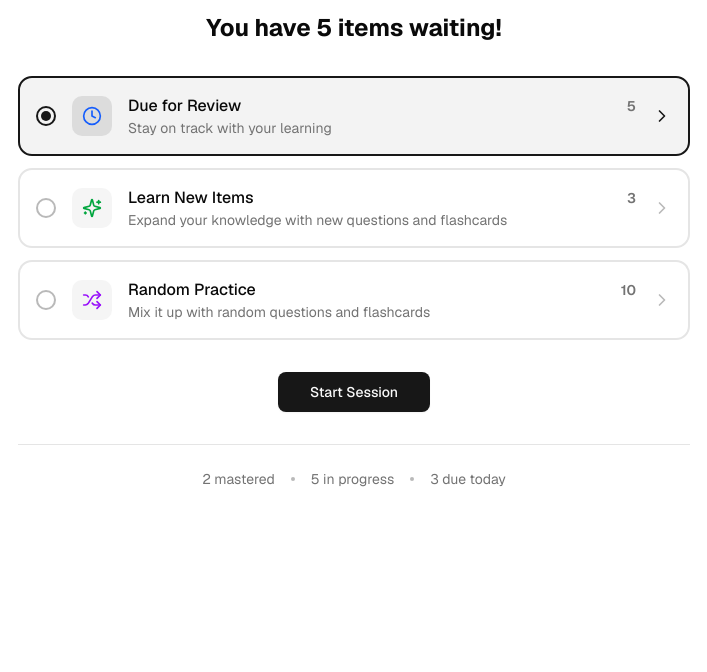
Test: ReviewInterface › question review flow › starts session and shows question
Click the button "Start Session": (354, 392) [278,372,430,412]
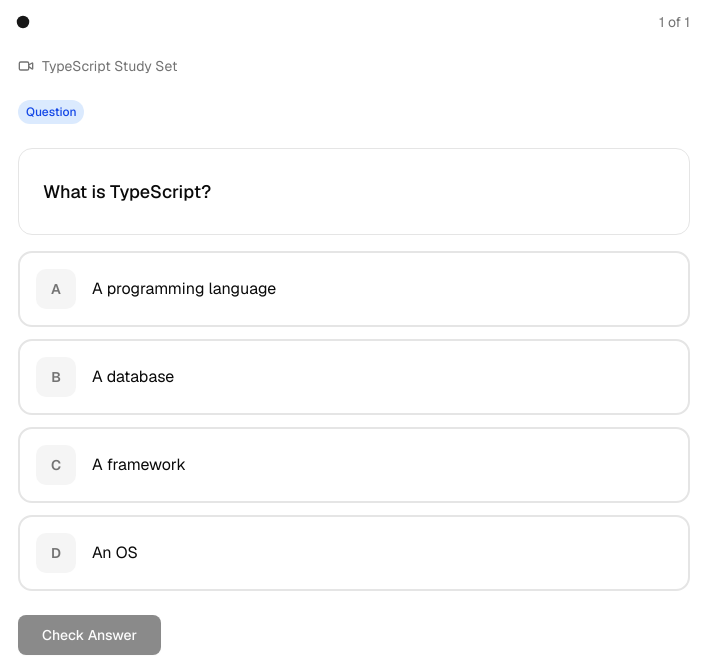
Now the text "What is TypeScript?" is shown, box [43,180,211,203]
Now the text "A programming language" is shown, box [92,278,276,299]
Now the text "A database" is shown, box [92,366,174,387]
